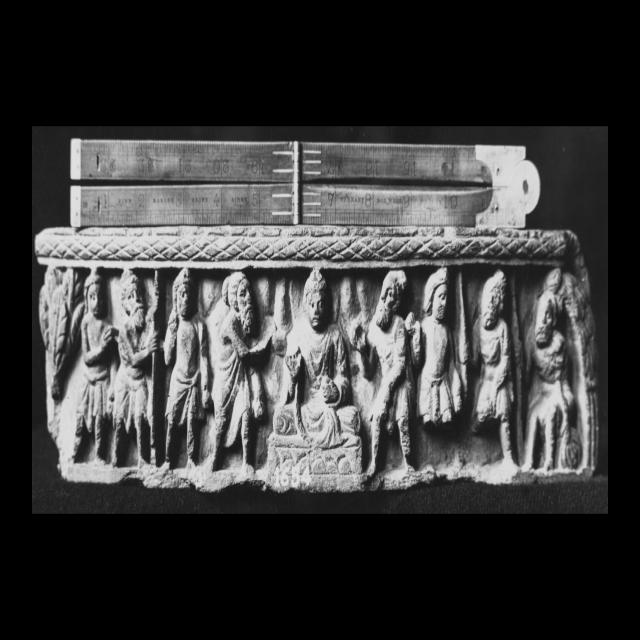buddha-sitting: (268, 269, 362, 488)
